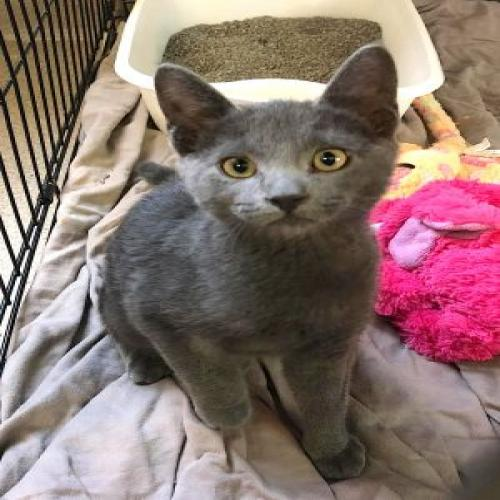rblue: (136, 41, 424, 256)
